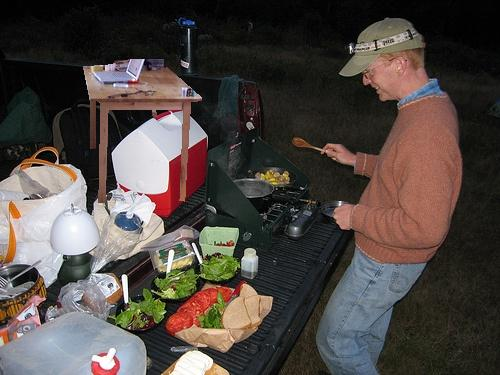tampered: (84, 60, 202, 203)
